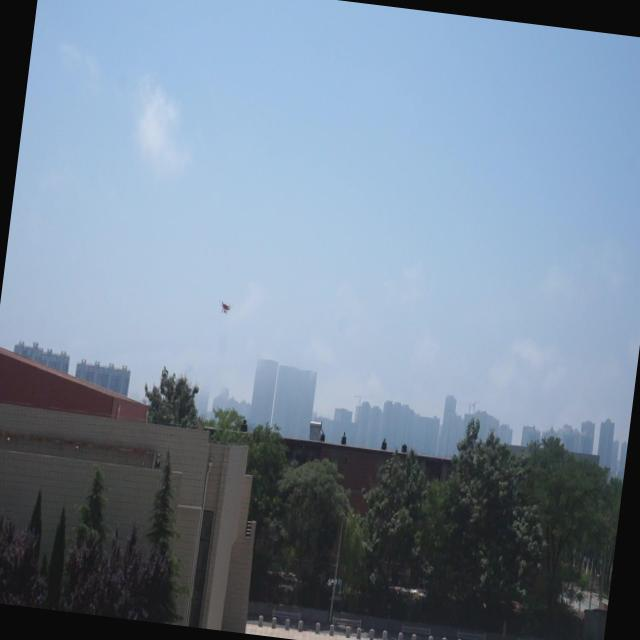drone: (218, 298, 232, 316)
